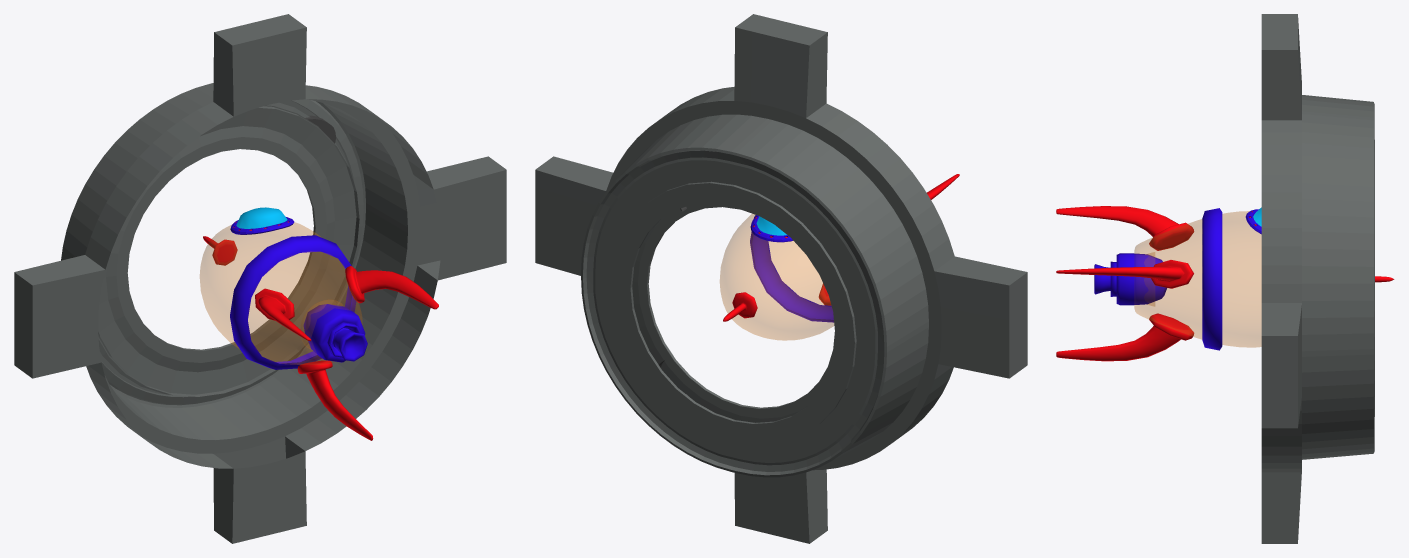
File: Rocket Launch2.fbx
3 views of the same model, side by side, from view 1: azimuth 30°, elevation 25°; view 2: azimuth 150°, elevation 25°; view 3: azimuth 270°, elevation 25° (orthographic).
Visible parts, largest first — view 1: Cube.001, boddy.001, Arm.001, boddy.belt.001, fire-nozzle.001, win.002, head.001; view 2: Cube.001, boddy.001, boddy.belt.001, head.001; view 3: Cube.001, boddy.001, Arm.001, boddy.belt.001, fire-nozzle.001.
Boxes of the visible parts, x1=… form: Cube.001: x1=14, y1=14, x2=506, y2=543; boddy.001: x1=200, y1=222, x2=362, y2=364; Arm.001: x1=255, y1=266, x2=438, y2=440; boddy.belt.001: x1=230, y1=235, x2=356, y2=369; fire-nozzle.001: x1=303, y1=304, x2=367, y2=362; win.002: x1=236, y1=207, x2=287, y2=228; head.001: x1=203, y1=236, x2=237, y2=265; Cube.001: x1=535, y1=14, x2=1027, y2=543; boddy.001: x1=720, y1=214, x2=833, y2=340; boddy.belt.001: x1=750, y1=215, x2=833, y2=322; head.001: x1=723, y1=292, x2=757, y2=321; Cube.001: x1=1261, y1=14, x2=1374, y2=543; boddy.001: x1=1134, y1=211, x2=1261, y2=347; Arm.001: x1=1056, y1=206, x2=1193, y2=361; boddy.belt.001: x1=1202, y1=208, x2=1222, y2=350; fire-nozzle.001: x1=1094, y1=253, x2=1166, y2=305.
Size of the model in its own units: 1055 by 1059 by 658.
